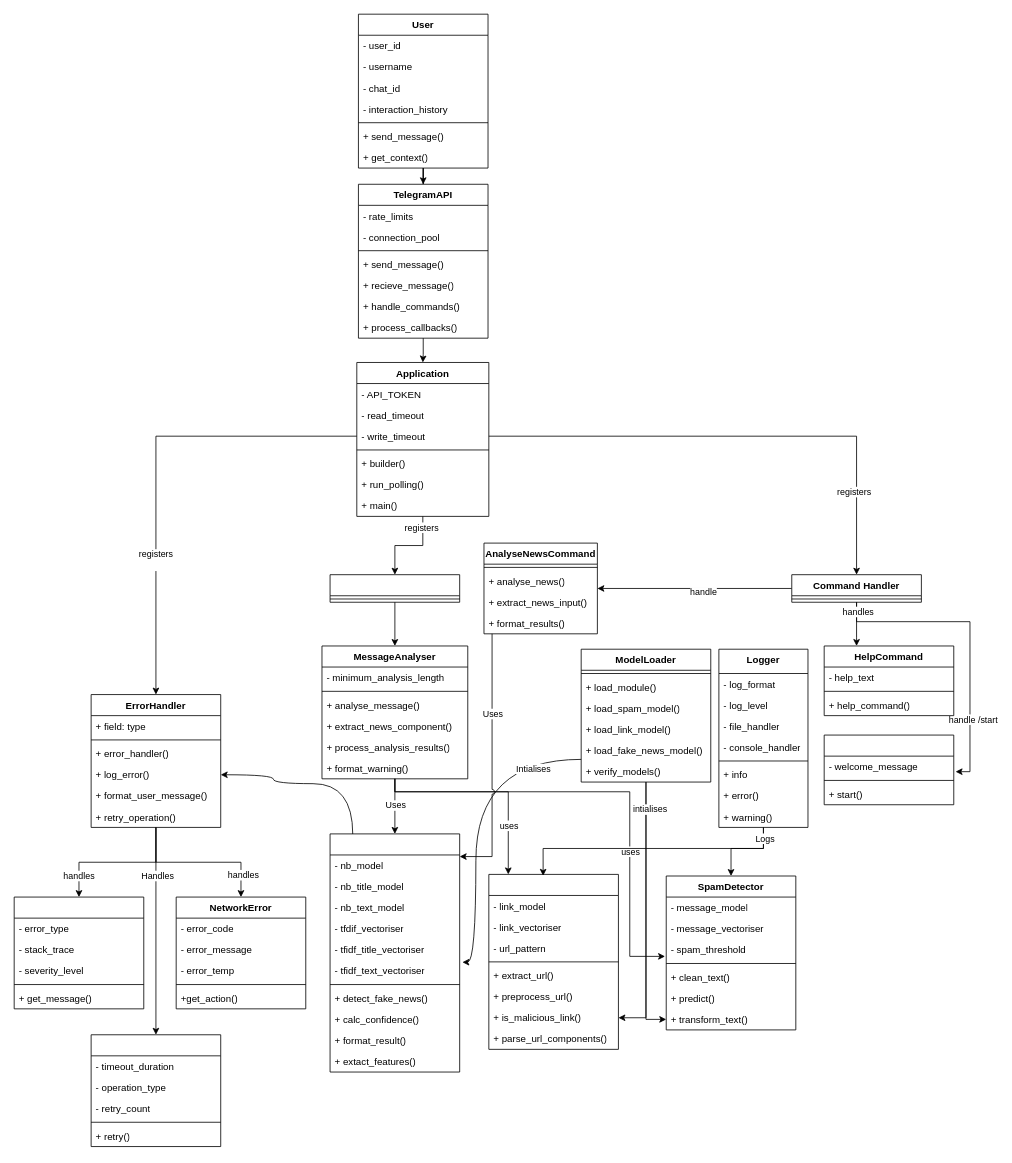
The diagram is 1012 pixels wide and 1163 high, and some of its shapes have lost their labels. Each missing label, with the box of its shape:
FakeNewsDetector: (329, 833, 460, 1072)
GeneralError: (13, 896, 144, 1009)
LinkDetector: (488, 874, 618, 1049)
Message Handler: (329, 574, 460, 602)
StartCommand: (823, 734, 954, 805)
TimeoutError: (90, 1034, 221, 1147)
